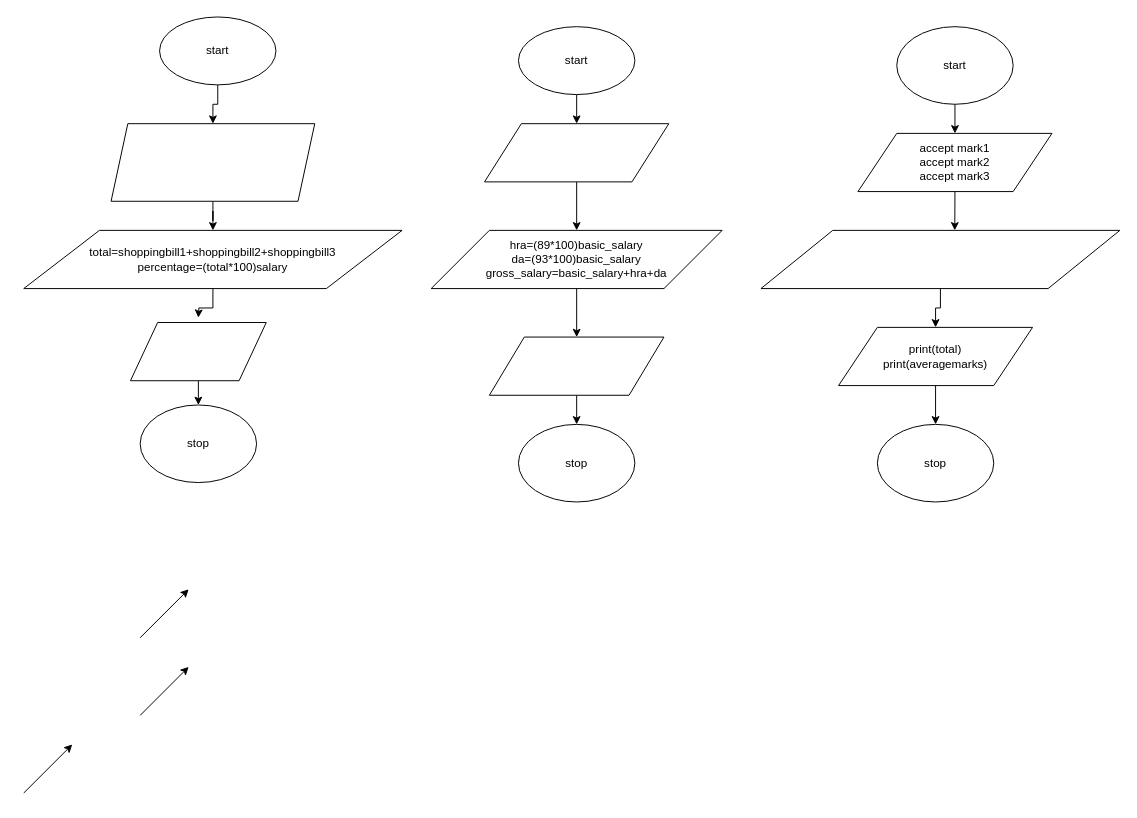
This 1137x818 diagram has some shape labels left out. Here are the shapes that lost their labels. From the top down, the centre of each, then its label:
(x=212, y=162): accept salary accept shoppingbill1 accept shoppingbill2 accept shoppingbill3
(x=576, y=152): accept basic_salary accept gross_salary
(x=940, y=259): total=mark1+mark2+mark3 average marks=total3
(x=197, y=351): print(total) print(percentage)
(x=576, y=365): print(hra) print(average marks)
